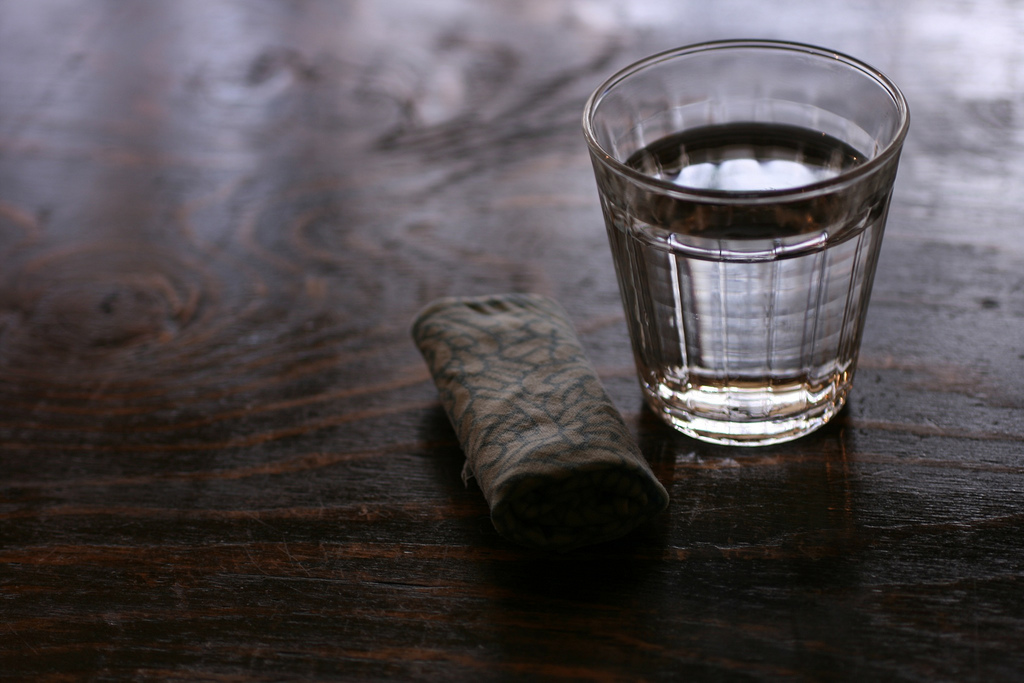glass of water: (575, 41, 881, 456)
